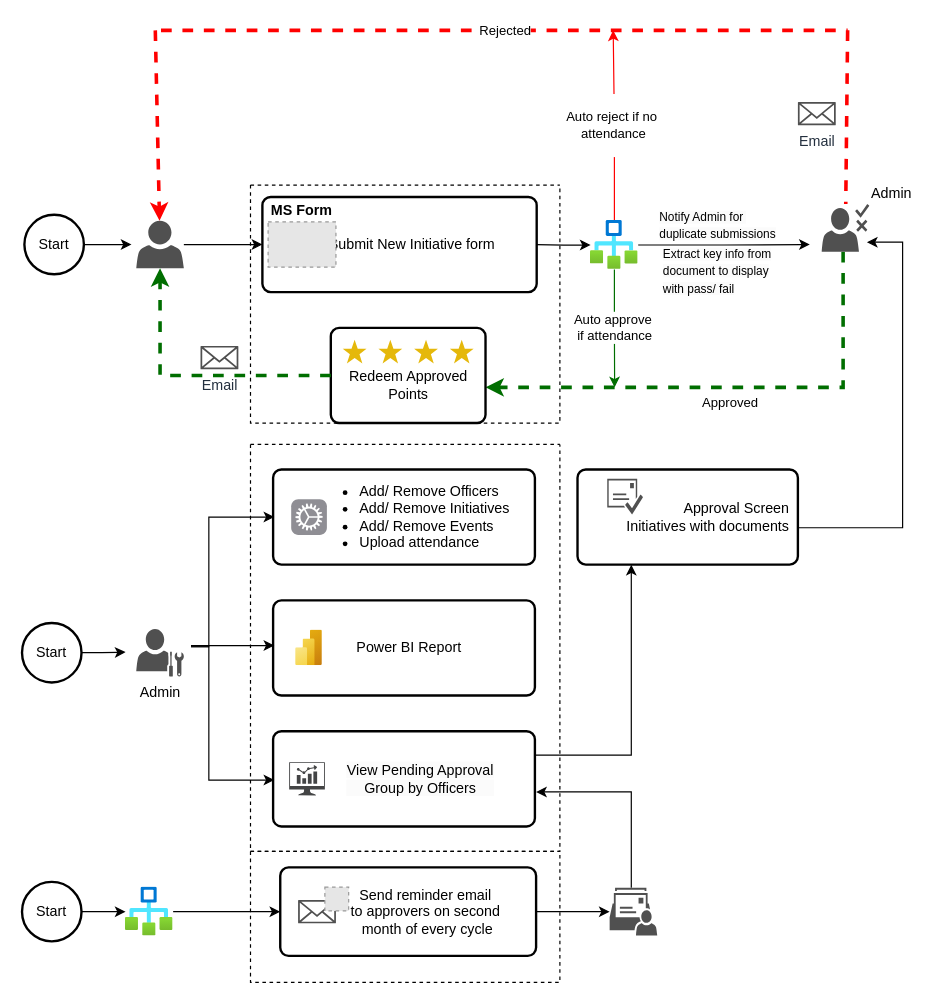
Image size: 933x1003. Some labels were removed from this diagram. Grey dashed boxes stand in for pictures. The shapes that lost their labels are listed below. From the top down, each one's centre as x and y in pixels, then its label:
the point at 159,244: Officer
the point at 614,244: Automate Workflow
the point at 149,911: Scheduled Workflow
the point at 633,911: Approver(s)
